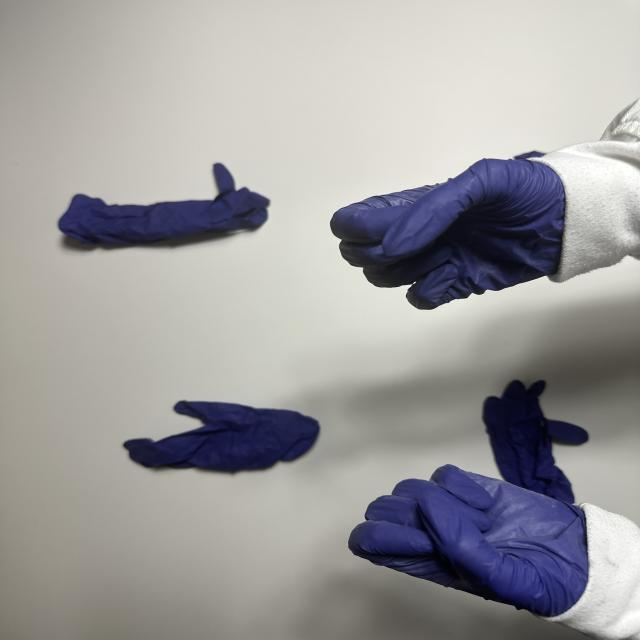gloves_contaminated: (349, 465, 589, 617), (331, 159, 565, 309)
